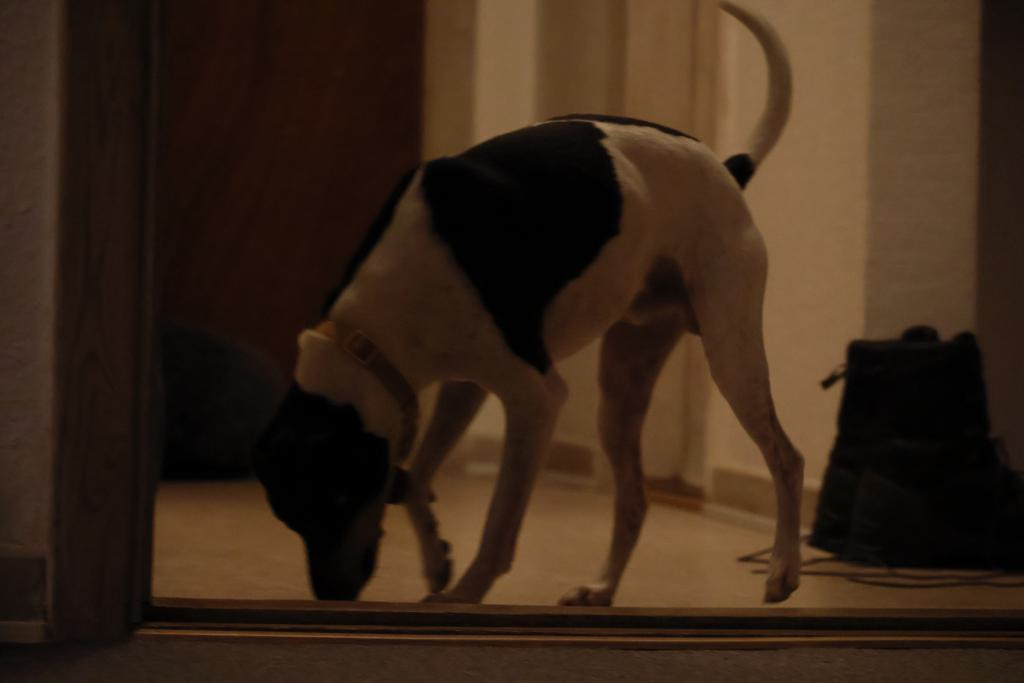Dog: (243, 0, 827, 613)
